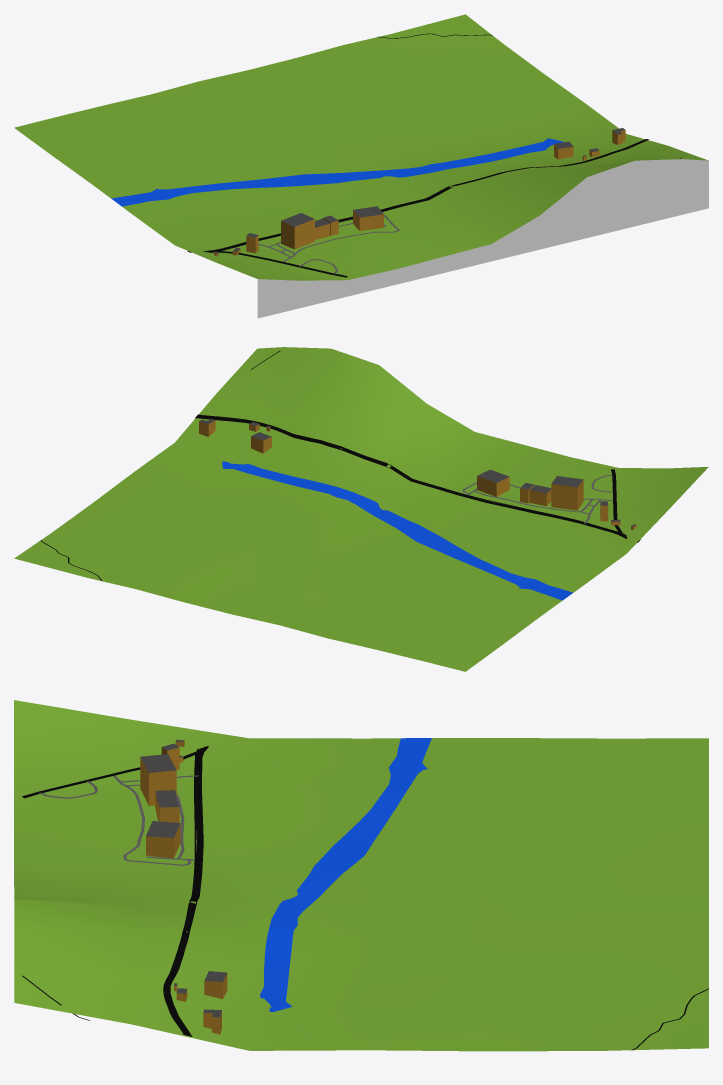
Rendered from tile_09_00.glb.
3 renders of one model, top to bottom at view 1: azimuth 30°, elevation 25°; view 2: azimuth 150°, elevation 25°; view 3: azimuth 270°, elevation 25°, orthographic. The views are drawn at different scales.
Parts seen in each view (by area): view 1: Terrain_09_00, Ub_small.osm_water_09_00, Ub_small.osm_buildings_09_00, Ub_small.osm_roads_primary_09_00, Ub_small.osm_roads_service_09_00; view 2: Terrain_09_00, Ub_small.osm_water_09_00, Ub_small.osm_buildings_09_00, Ub_small.osm_roads_primary_09_00, Ub_small.osm_paths_cycleway_09_00, Ub_small.osm_roads_service_09_00; view 3: Terrain_09_00, Ub_small.osm_water_09_00, Ub_small.osm_buildings_09_00, Ub_small.osm_roads_primary_09_00, Ub_small.osm_roads_service_09_00, Ub_small.osm_paths_cycleway_09_00.
Part boxes in pixels (bbox=[...]): Terrain_09_00: bbox=[14, 14, 708, 318]; Ub_small.osm_water_09_00: bbox=[111, 138, 563, 206]; Ub_small.osm_buildings_09_00: bbox=[214, 128, 625, 256]; Ub_small.osm_roads_primary_09_00: bbox=[187, 139, 648, 252]; Ub_small.osm_roads_service_09_00: bbox=[258, 215, 399, 274]; Terrain_09_00: bbox=[14, 347, 708, 671]; Ub_small.osm_water_09_00: bbox=[222, 461, 572, 600]; Ub_small.osm_buildings_09_00: bbox=[199, 418, 636, 529]; Ub_small.osm_roads_primary_09_00: bbox=[195, 415, 639, 542]; Ub_small.osm_paths_cycleway_09_00: bbox=[198, 414, 640, 539]; Ub_small.osm_roads_service_09_00: bbox=[462, 475, 614, 523]; Terrain_09_00: bbox=[14, 700, 708, 1051]; Ub_small.osm_water_09_00: bbox=[260, 738, 431, 1011]; Ub_small.osm_buildings_09_00: bbox=[140, 739, 227, 1034]; Ub_small.osm_roads_primary_09_00: bbox=[163, 746, 208, 1036]; Ub_small.osm_roads_service_09_00: bbox=[39, 775, 198, 865]; Ub_small.osm_paths_cycleway_09_00: bbox=[163, 748, 198, 1034].
Bounding box in the file's own units: 978 × 136 × 913.
